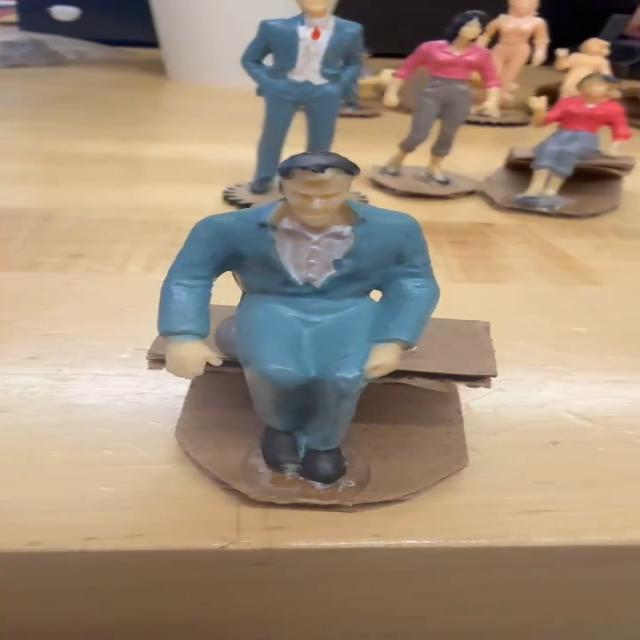Authorized: (136, 146, 433, 514)
